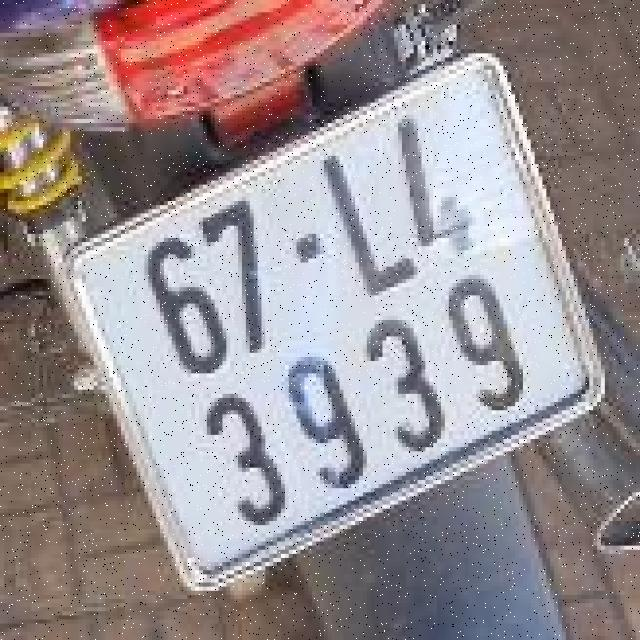3: (350, 300, 462, 466), (194, 380, 302, 544)
4: (382, 96, 486, 273)
6: (130, 223, 241, 392)
7: (189, 184, 294, 367)
9: (425, 259, 548, 432), (269, 337, 384, 499)
L: (306, 139, 426, 312)
